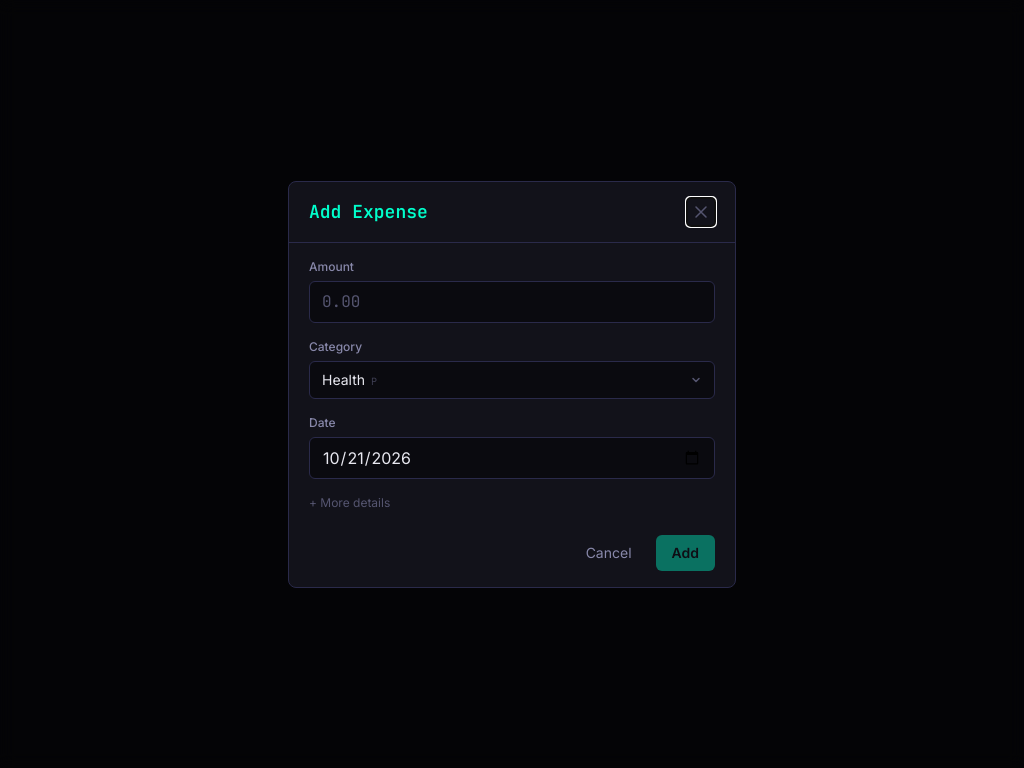
Test case: QuickAdd › shows route markers when categories span both routes
The width and height of the screenshot is (1024, 768).
Click the button named "Category" at (344, 379), box [309, 360, 715, 398]
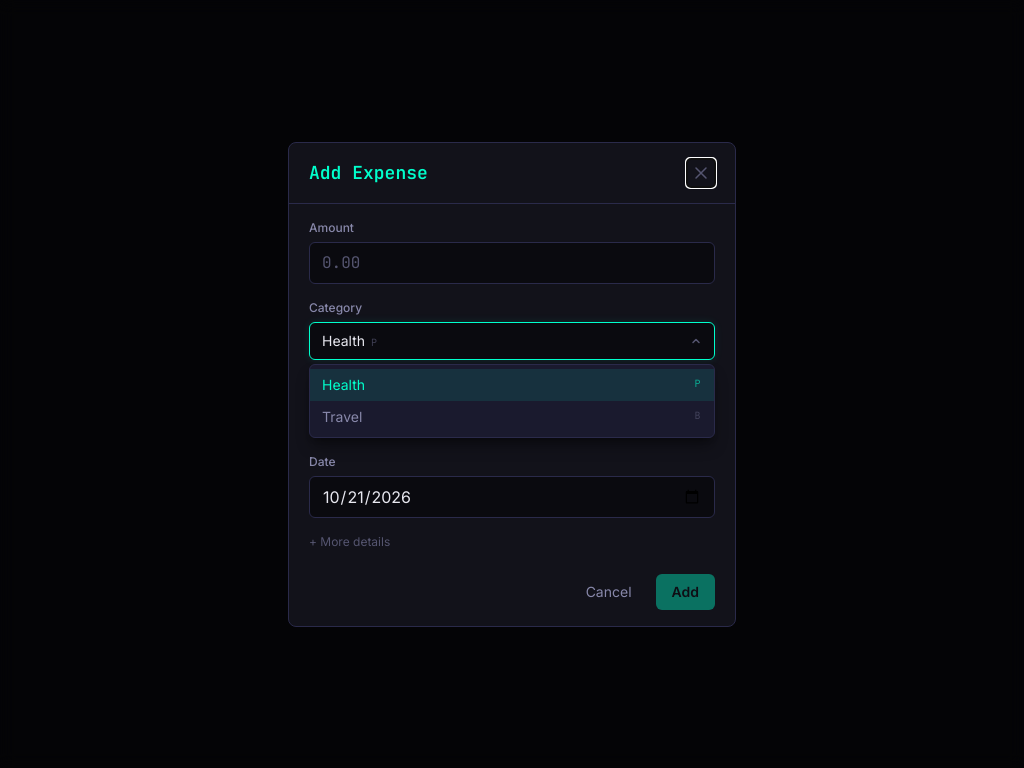
Check: the option "Health p" is shown, box [310, 368, 714, 400]
Check: the option "Travel b" is shown, box [310, 400, 714, 432]
